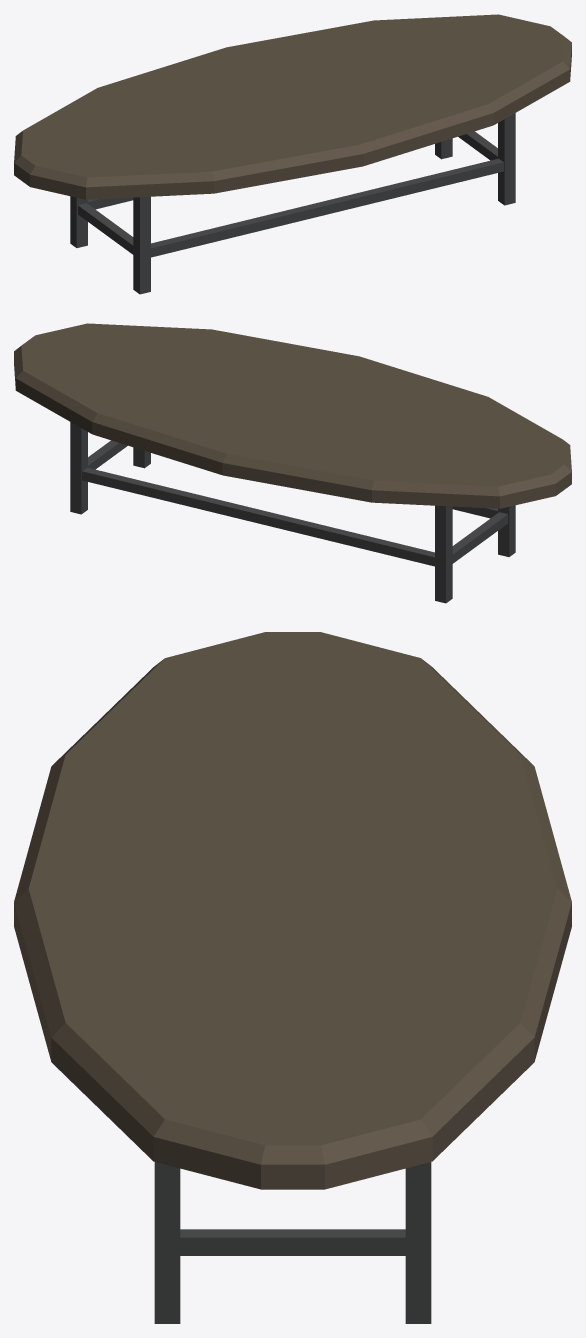
File: SM_Props_Interior_House_Room_Coffee_Table_03.fbx
The picture shows the model from 3 angles, top to bottom: view 1: azimuth 30°, elevation 25°; view 2: azimuth 150°, elevation 25°; view 3: azimuth 270°, elevation 25°; orthographic projection. The views are drawn at different scales.
Visible parts, largest first — view 1: SM_Props_Interior_House_Room_Coffee_Table_03; view 2: SM_Props_Interior_House_Room_Coffee_Table_03; view 3: SM_Props_Interior_House_Room_Coffee_Table_03.
Boxes of the visible parts, x1,y1,x2,y2 form: SM_Props_Interior_House_Room_Coffee_Table_03: (14,14,571,294); SM_Props_Interior_House_Room_Coffee_Table_03: (14,323,571,603); SM_Props_Interior_House_Room_Coffee_Table_03: (14,632,571,1323).
Size of the model in its own units: 89.17 by 20 by 40.
